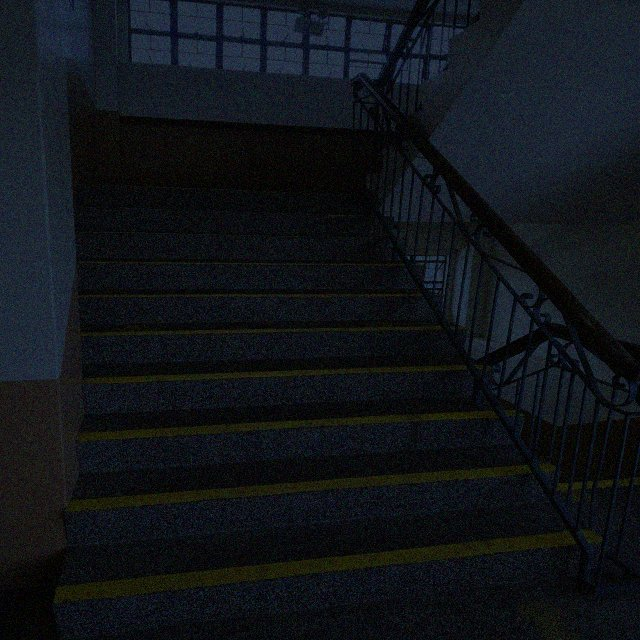stair: (55, 186, 577, 638), (357, 5, 524, 212)
